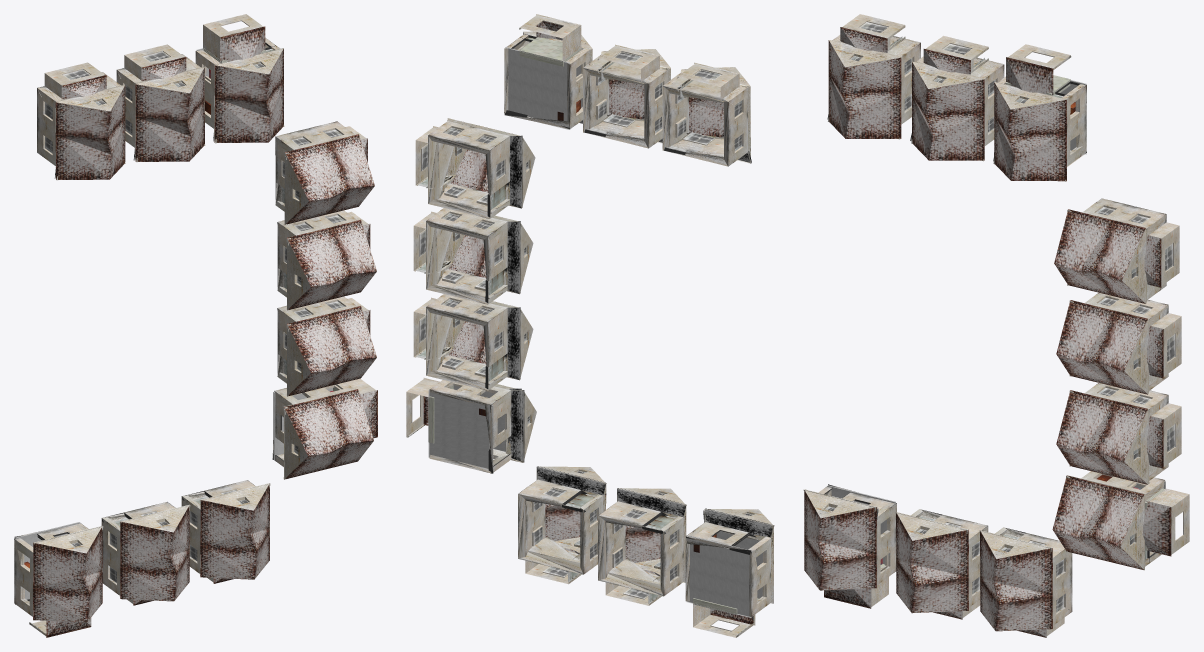
Rendered from domicilehotelsopen3_wtf.obj.
3 renders of one model, left to right at view 1: azimuth 30°, elevation 25°; view 2: azimuth 150°, elevation 25°; view 3: azimuth 330°, elevation 25°, orthographic. The views are drawn at different scales.
Visible parts, largest first — view 1: group58, group53, group50, group40, group44, group49, group41, group34, group16, group80, group66, group2 (+1 smaller); view 2: group50, group40, group44, group49, group58, group41, group53, group2, group20, group30, group12, group76 (+11 smaller); view 3: group50, group49, group44, group58, group53, group41, group40, group16, group34, group80, group66, group20 (+1 smaller).
Part boxes in pixels (left/top/right/bottom): group58: left=37, top=62, right=125, bottom=180; group53: left=116, top=44, right=205, bottom=162; group50: left=275, top=121, right=374, bottom=224; group40: left=101, top=502, right=190, bottom=605; group44: left=277, top=296, right=376, bottom=396; group49: left=277, top=210, right=376, bottom=310; group41: left=181, top=480, right=270, bottom=583; group34: left=284, top=389, right=373, bottom=479; group16: left=33, top=526, right=103, bottom=622; group80: left=214, top=48, right=284, bottom=143; group66: left=195, top=14, right=283, bottom=142; group2: left=14, top=523, right=99, bottom=637; group50: left=415, top=118, right=535, bottom=218; group40: left=598, top=488, right=686, bottom=605; group44: left=413, top=294, right=533, bottom=390; group49: left=413, top=208, right=533, bottom=304; group58: left=662, top=62, right=751, bottom=166; group41: left=518, top=466, right=606, bottom=584; group53: left=583, top=44, right=670, bottom=148; group2: left=685, top=508, right=773, bottom=637; group20: left=406, top=378, right=524, bottom=473; group30: left=428, top=390, right=493, bottom=470; group12: left=686, top=535, right=751, bottom=617; group76: left=505, top=47, right=570, bottom=129; group50: left=1054, top=198, right=1179, bottom=303; group49: left=1056, top=293, right=1181, bottom=394; group44: left=1056, top=383, right=1181, bottom=484; group58: left=828, top=14, right=920, bottom=139; group53: left=911, top=35, right=1004, bottom=161; group41: left=979, top=527, right=1072, bottom=637; group40: left=895, top=509, right=988, bottom=619; group16: left=803, top=489, right=876, bottom=590; group34: left=1052, top=475, right=1144, bottom=570; group80: left=993, top=82, right=1066, bottom=181; group66: left=995, top=44, right=1086, bottom=166; group20: left=1066, top=471, right=1189, bottom=569.
Size of the model in its own units: 128 by 196 by 25.68.
